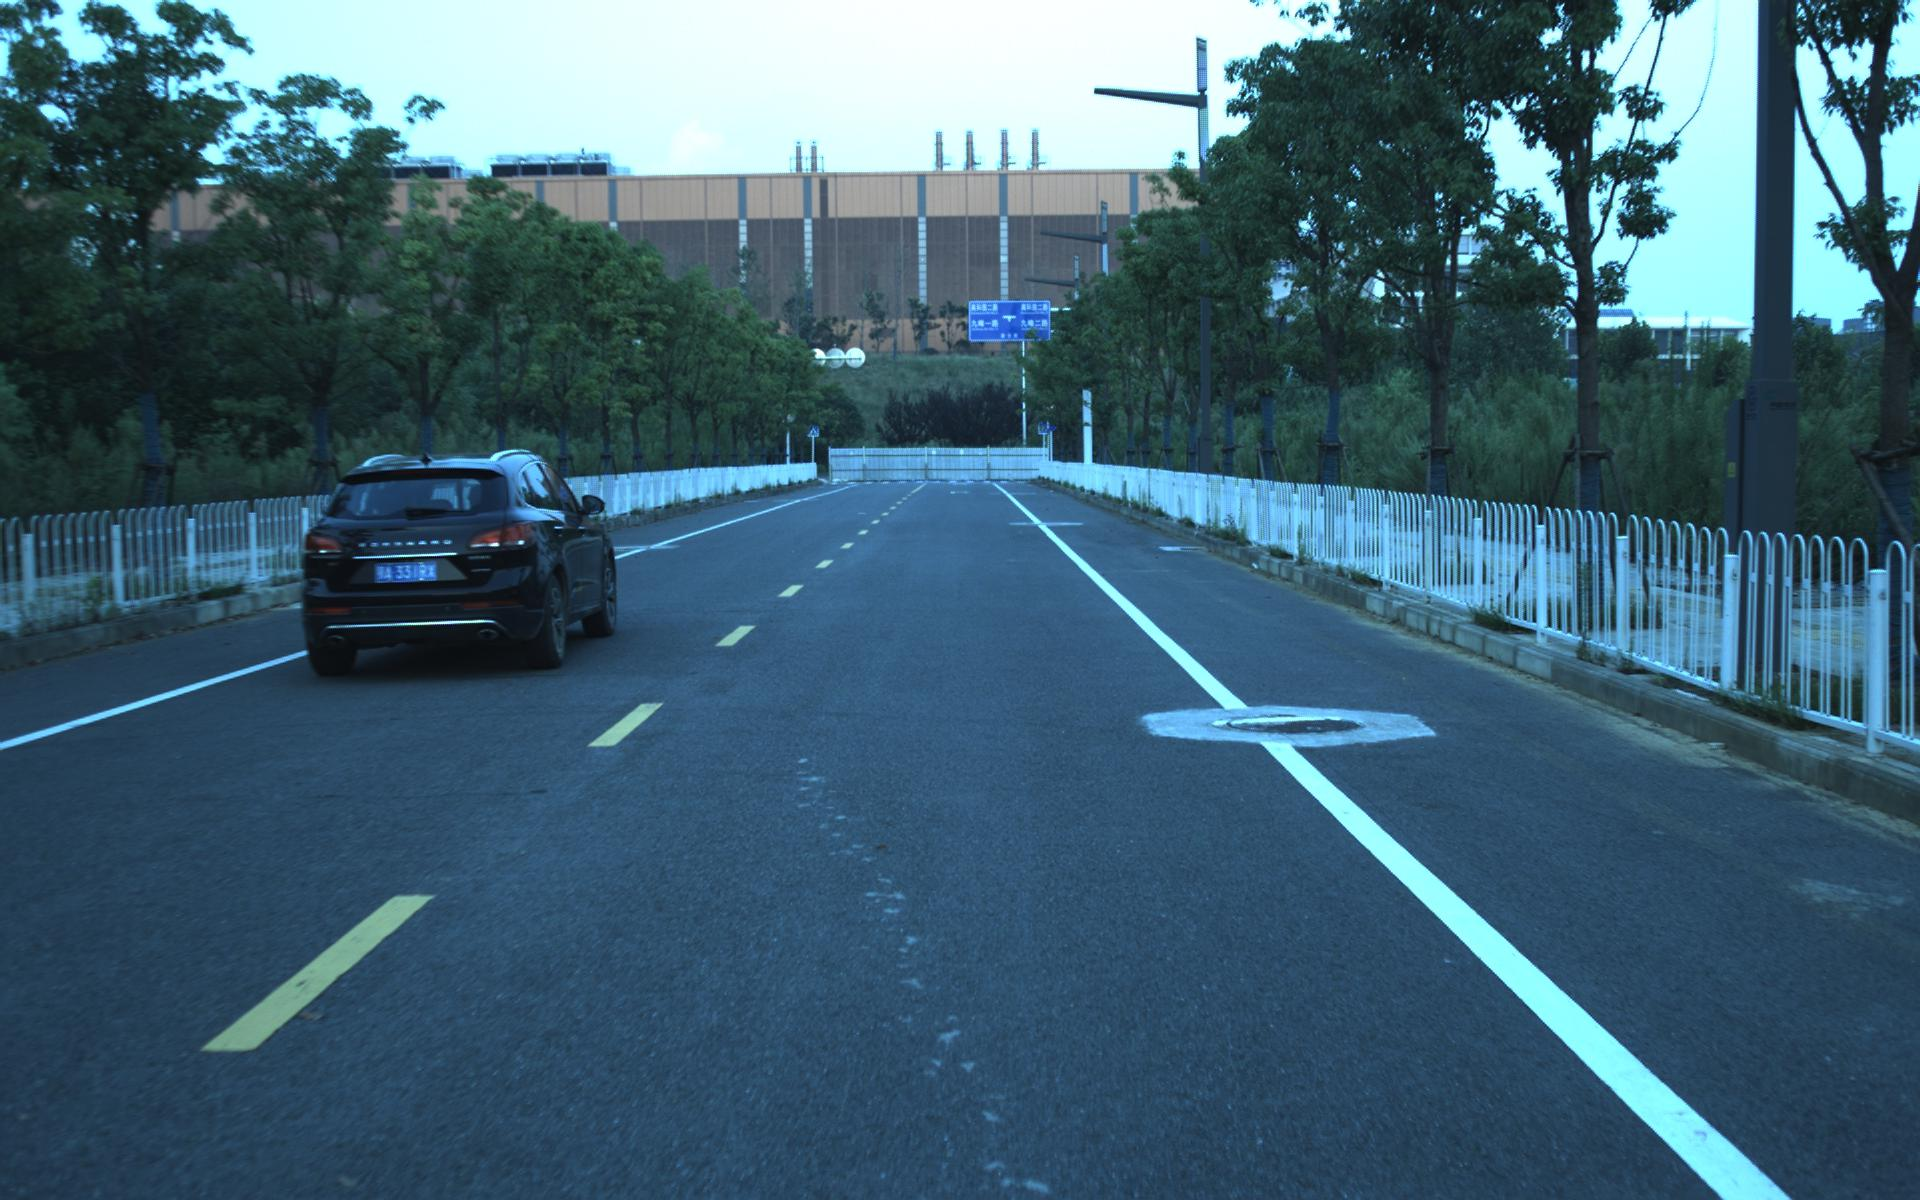Car: (285, 444, 623, 677)
